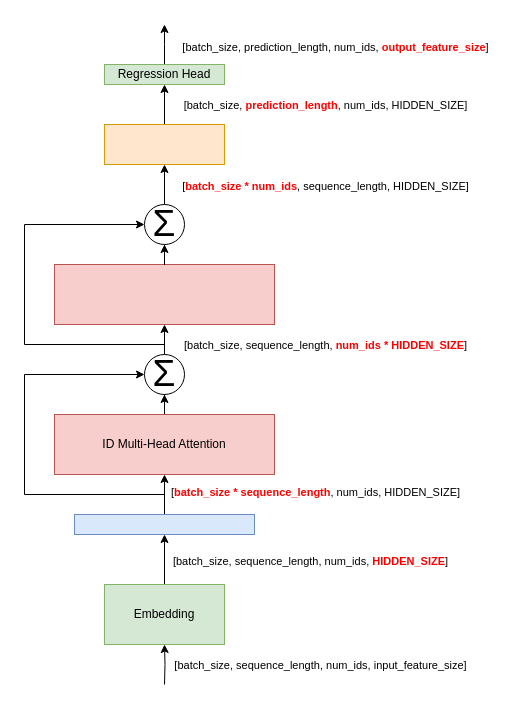
Some shapes in this 506 by 710 pixel diagram are drawn without their labels. The centre of each missing label's shape, as x and y in pixels:
Frame Multi-Head Attention: the point at 164,294
Sin + Cos Positional Encoding: the point at 164,524
Temporal Convolution: the point at 164,144
